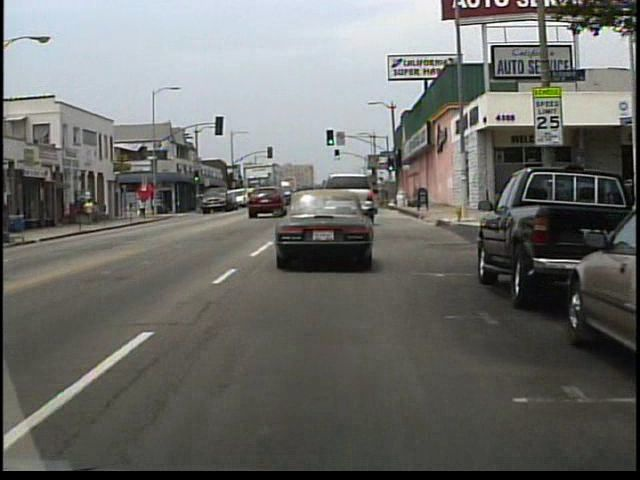person: (86, 198, 96, 225), (94, 200, 102, 225), (141, 198, 149, 219)
